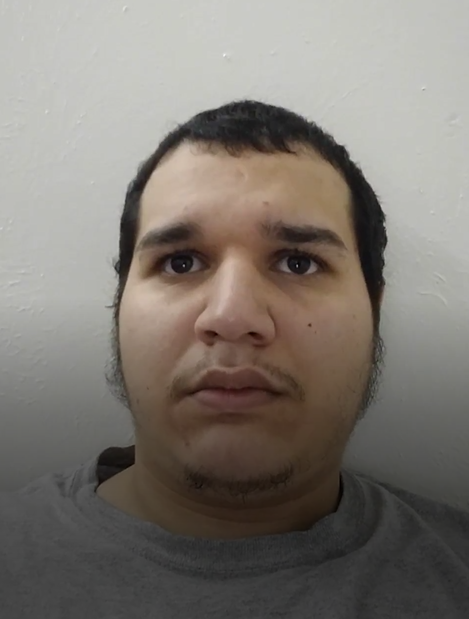Not Sleeping: (128, 211, 351, 296)
